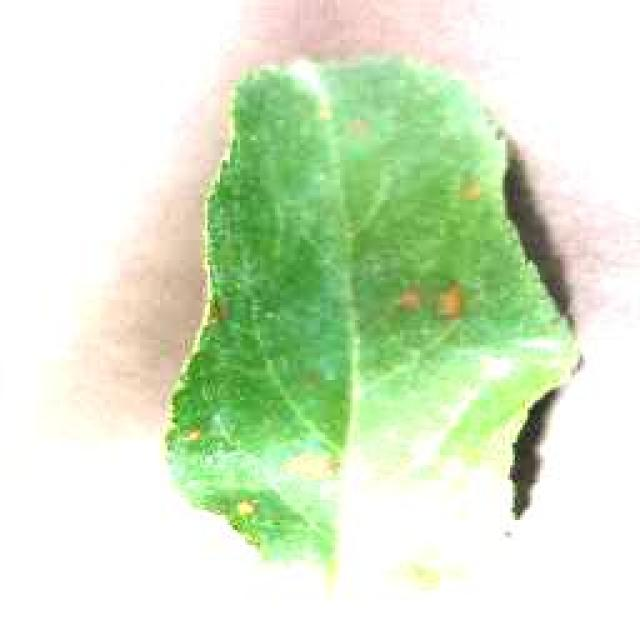apple healthy: (160, 48, 588, 578)
